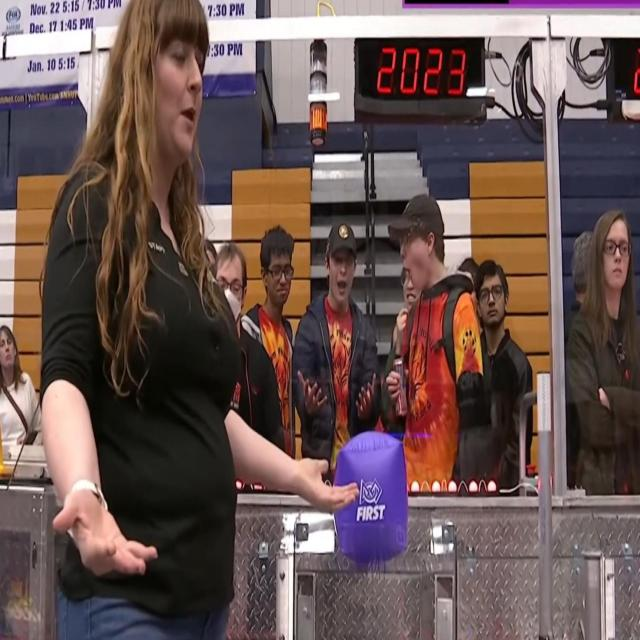frc_cone: (0, 405, 15, 483)
frc_cube: (334, 431, 408, 565)
